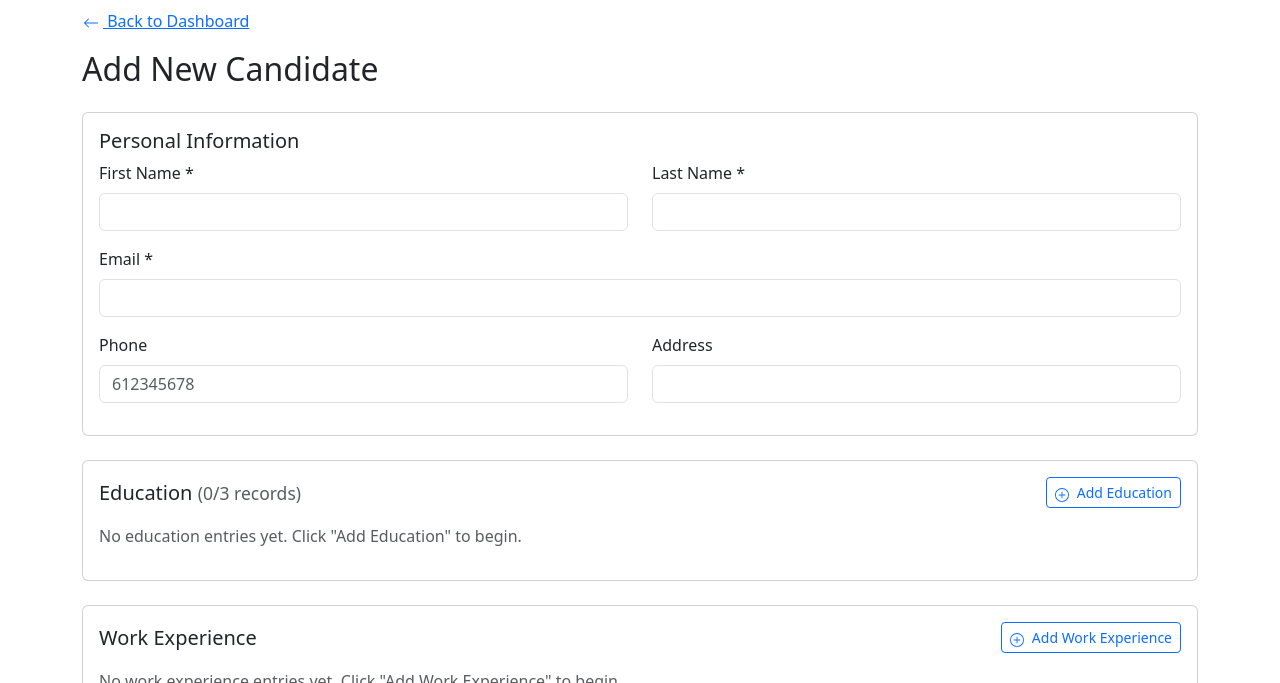
Add Candidate Feature › Add Candidate Form - Validation › should show error for invalid phone format
Type "12345" into the field with test id "phone".
click(364, 384); type("12345")  # box [99, 365, 628, 403]
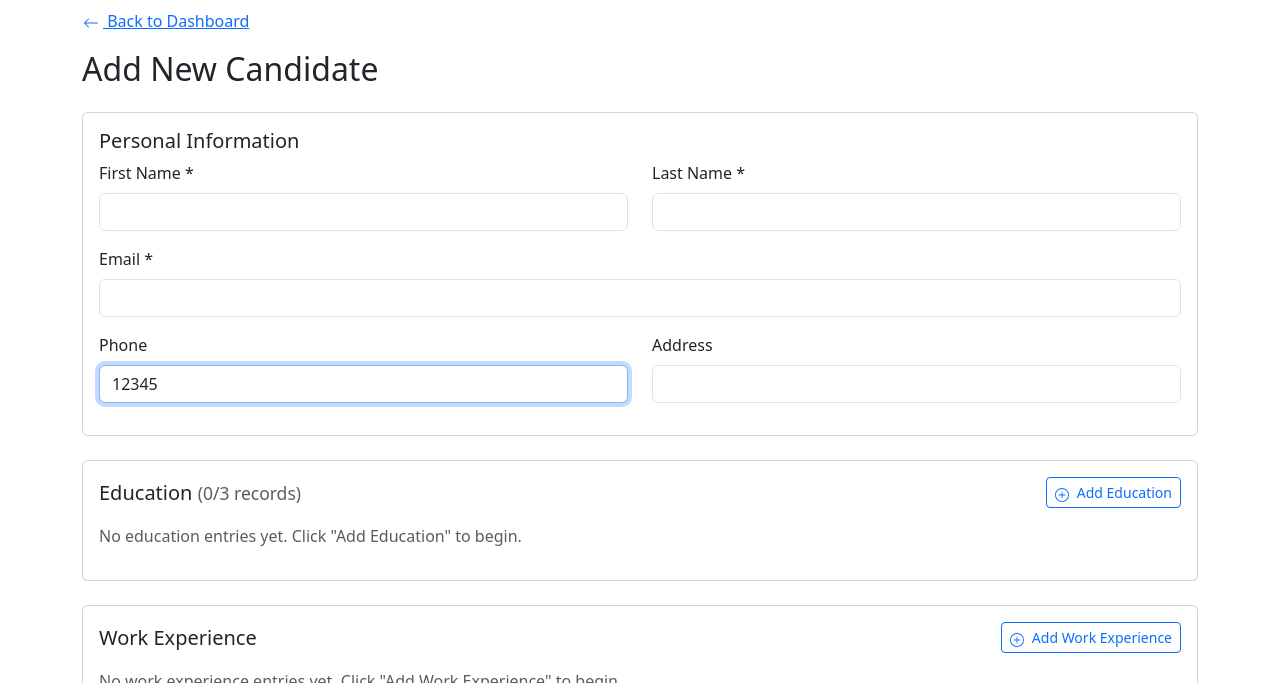
Scroll
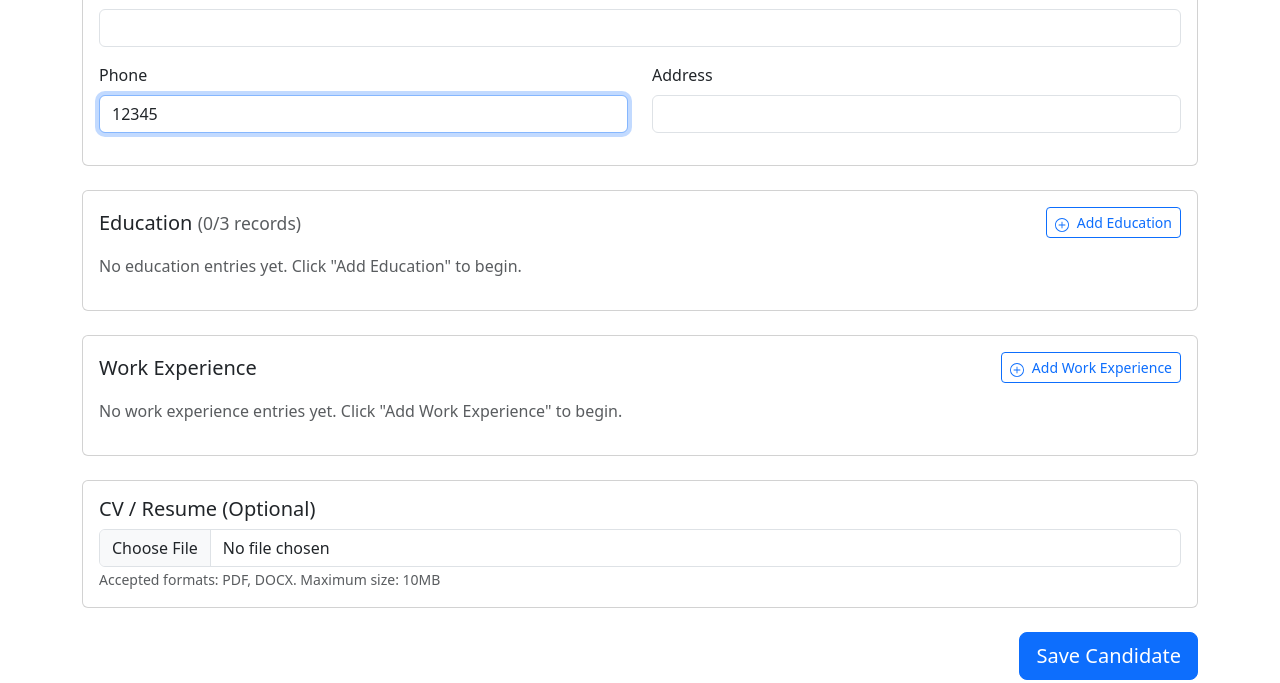
Click the button with test id "submit-btn".
click(1110, 656)  # box [1020, 632, 1199, 680]
(page scrolled)
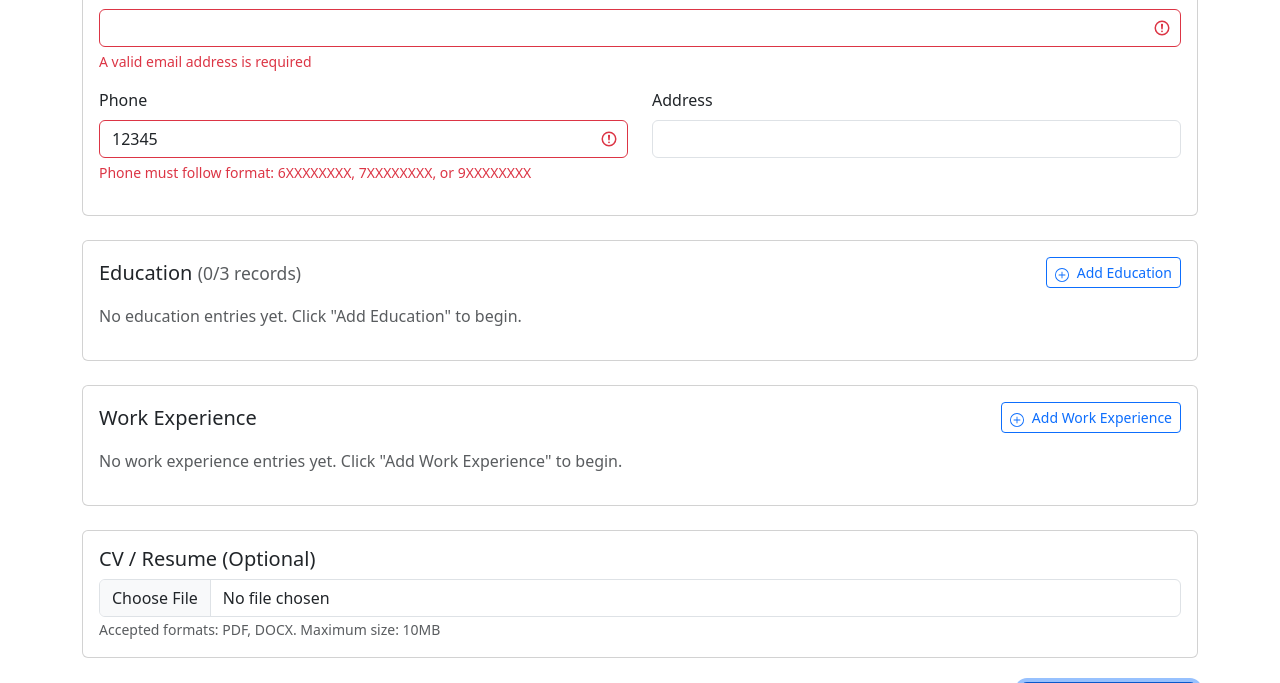
Expected: the text "Phone must follow format" is shown, [99, 163, 531, 182]
